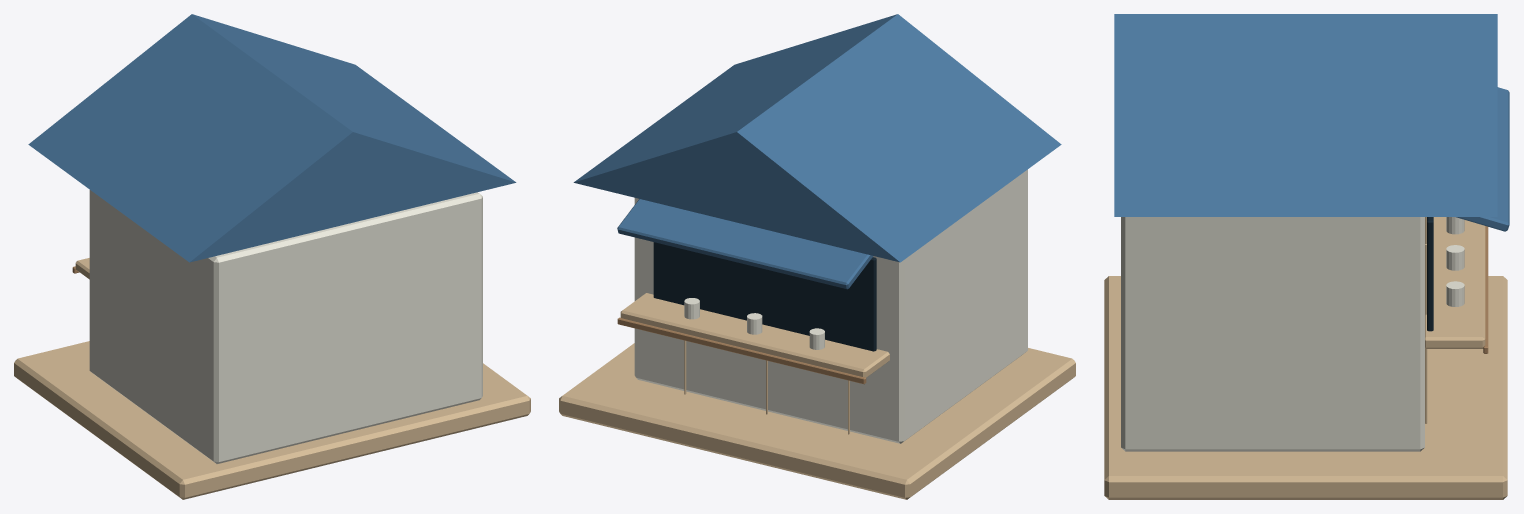
File: beach_kiosk.glb
The picture shows the model from 3 angles, left to right: view 1: azimuth 30°, elevation 25°; view 2: azimuth 150°, elevation 25°; view 3: azimuth 270°, elevation 25°; orthographic projection. The views are drawn at different scales.
Parts seen in each view (by area): view 1: body, gable_roof, deck; view 2: gable_roof, body, deck, service_opening, shutter, counter, counter_front_trim; view 3: gable_roof, body, deck, counter, shutter, cup (×2), service_opening, counter_front_trim.
Boxes of the visible parts, x1,y1,x2,y2 form: body: [89, 190, 482, 463]; gable_roof: [28, 14, 516, 262]; deck: [14, 341, 530, 499]; gable_roof: [573, 14, 1061, 262]; body: [634, 169, 1027, 443]; deck: [559, 343, 1075, 499]; service_opening: [653, 242, 876, 351]; shutter: [617, 199, 873, 289]; counter: [620, 293, 889, 377]; counter_front_trim: [617, 317, 866, 384]; gable_roof: [1114, 14, 1497, 216]; body: [1121, 217, 1424, 451]; deck: [1104, 276, 1507, 499]; counter: [1425, 217, 1485, 348]; shutter: [1456, 87, 1509, 231]; cup (×2): [1446, 245, 1464, 306]; service_opening: [1427, 217, 1433, 331]; counter_front_trim: [1483, 226, 1488, 353].
Bounding box in the file's own units: 3.65 × 3.22 × 3.06.
